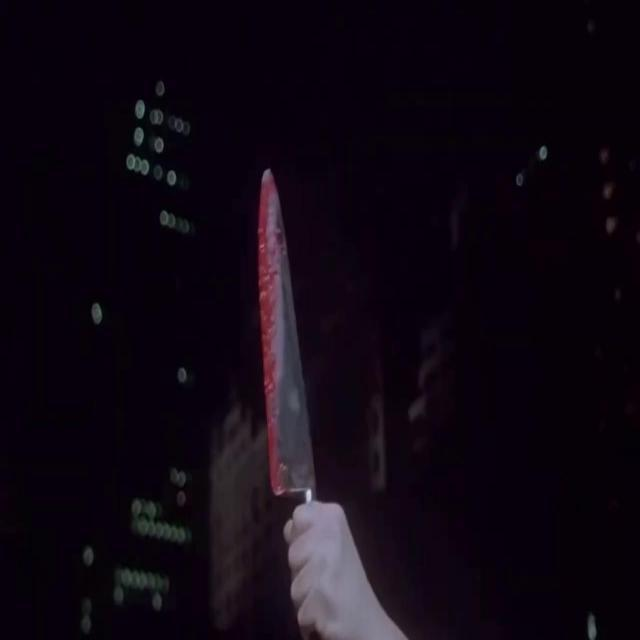flood: (259, 179, 282, 496)
